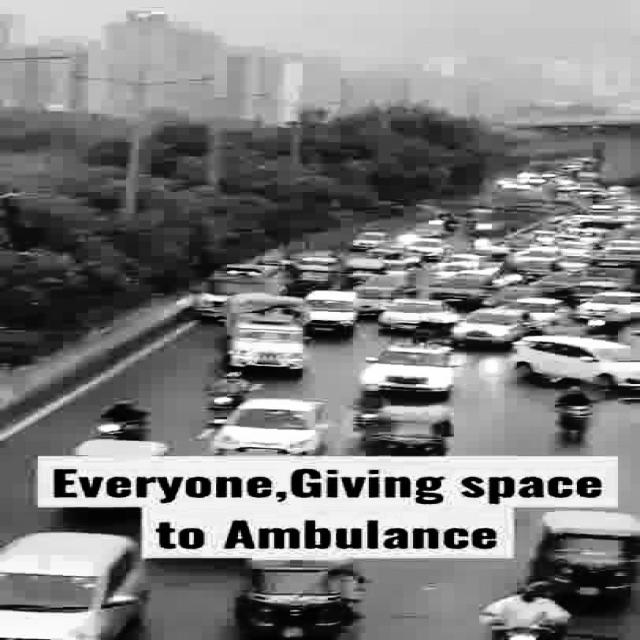Ambulance: (182, 261, 308, 299)
